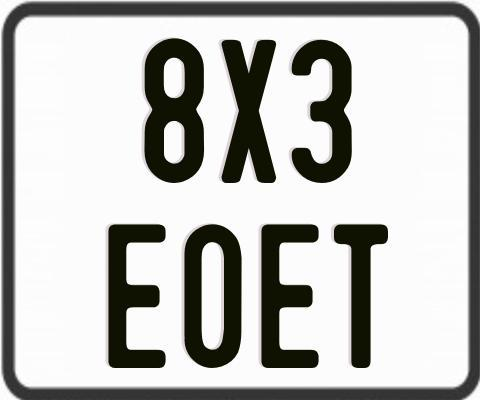0: (181, 224, 243, 372)
3: (289, 38, 353, 187)
8: (141, 36, 202, 182)
E: (108, 222, 168, 372), (260, 222, 321, 367)
T: (331, 222, 385, 369)
X: (221, 40, 280, 188)
